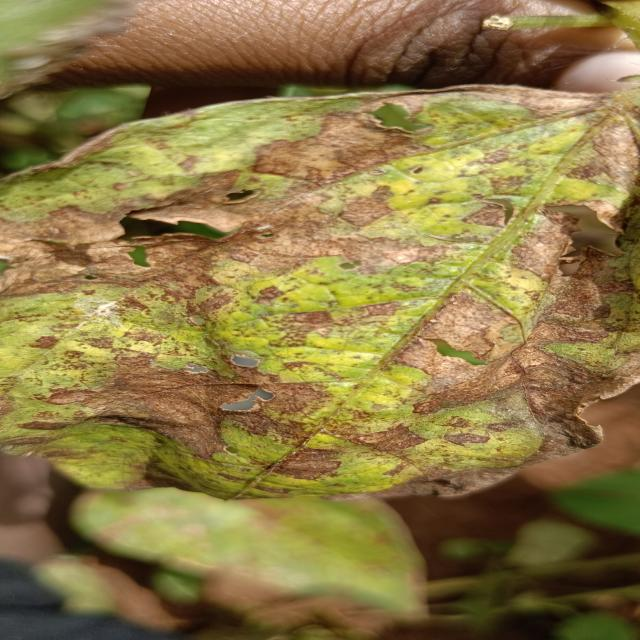Black gram_leaf spot: (0, 64, 640, 512), (64, 476, 431, 615)
